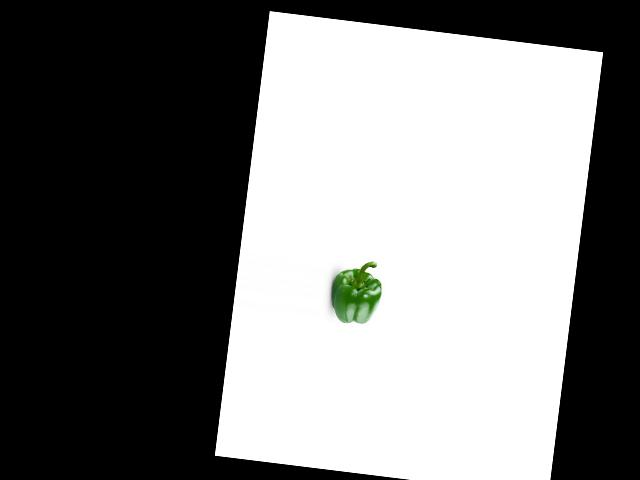bell_pepper: (328, 255, 386, 328)
